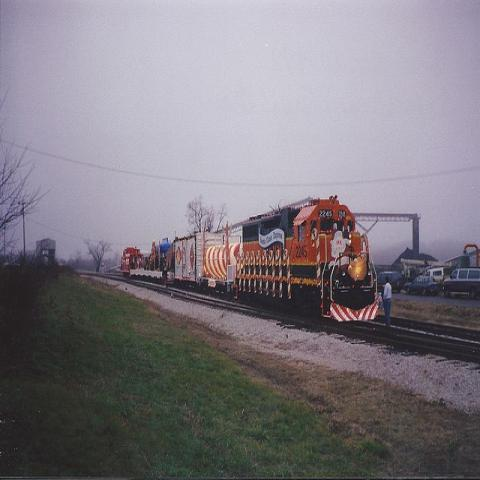car: (442, 267, 479, 299), (404, 276, 440, 297), (421, 266, 453, 288), (377, 271, 403, 292)
truck: (121, 246, 146, 274)
